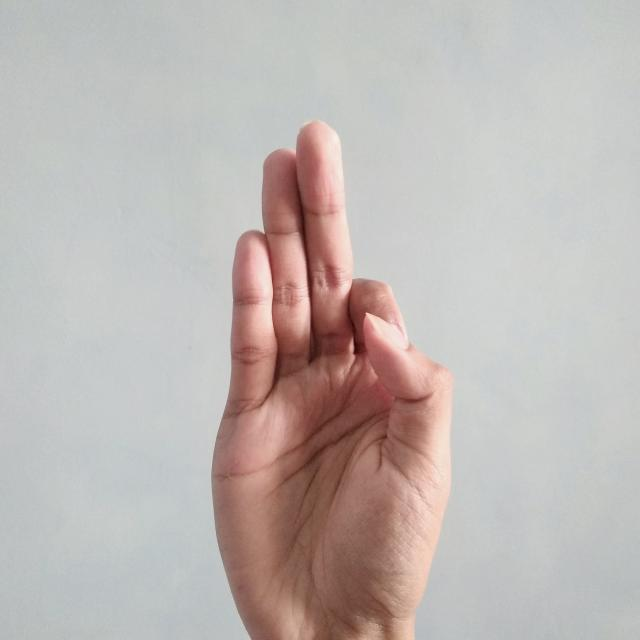F: (207, 116, 456, 640)
